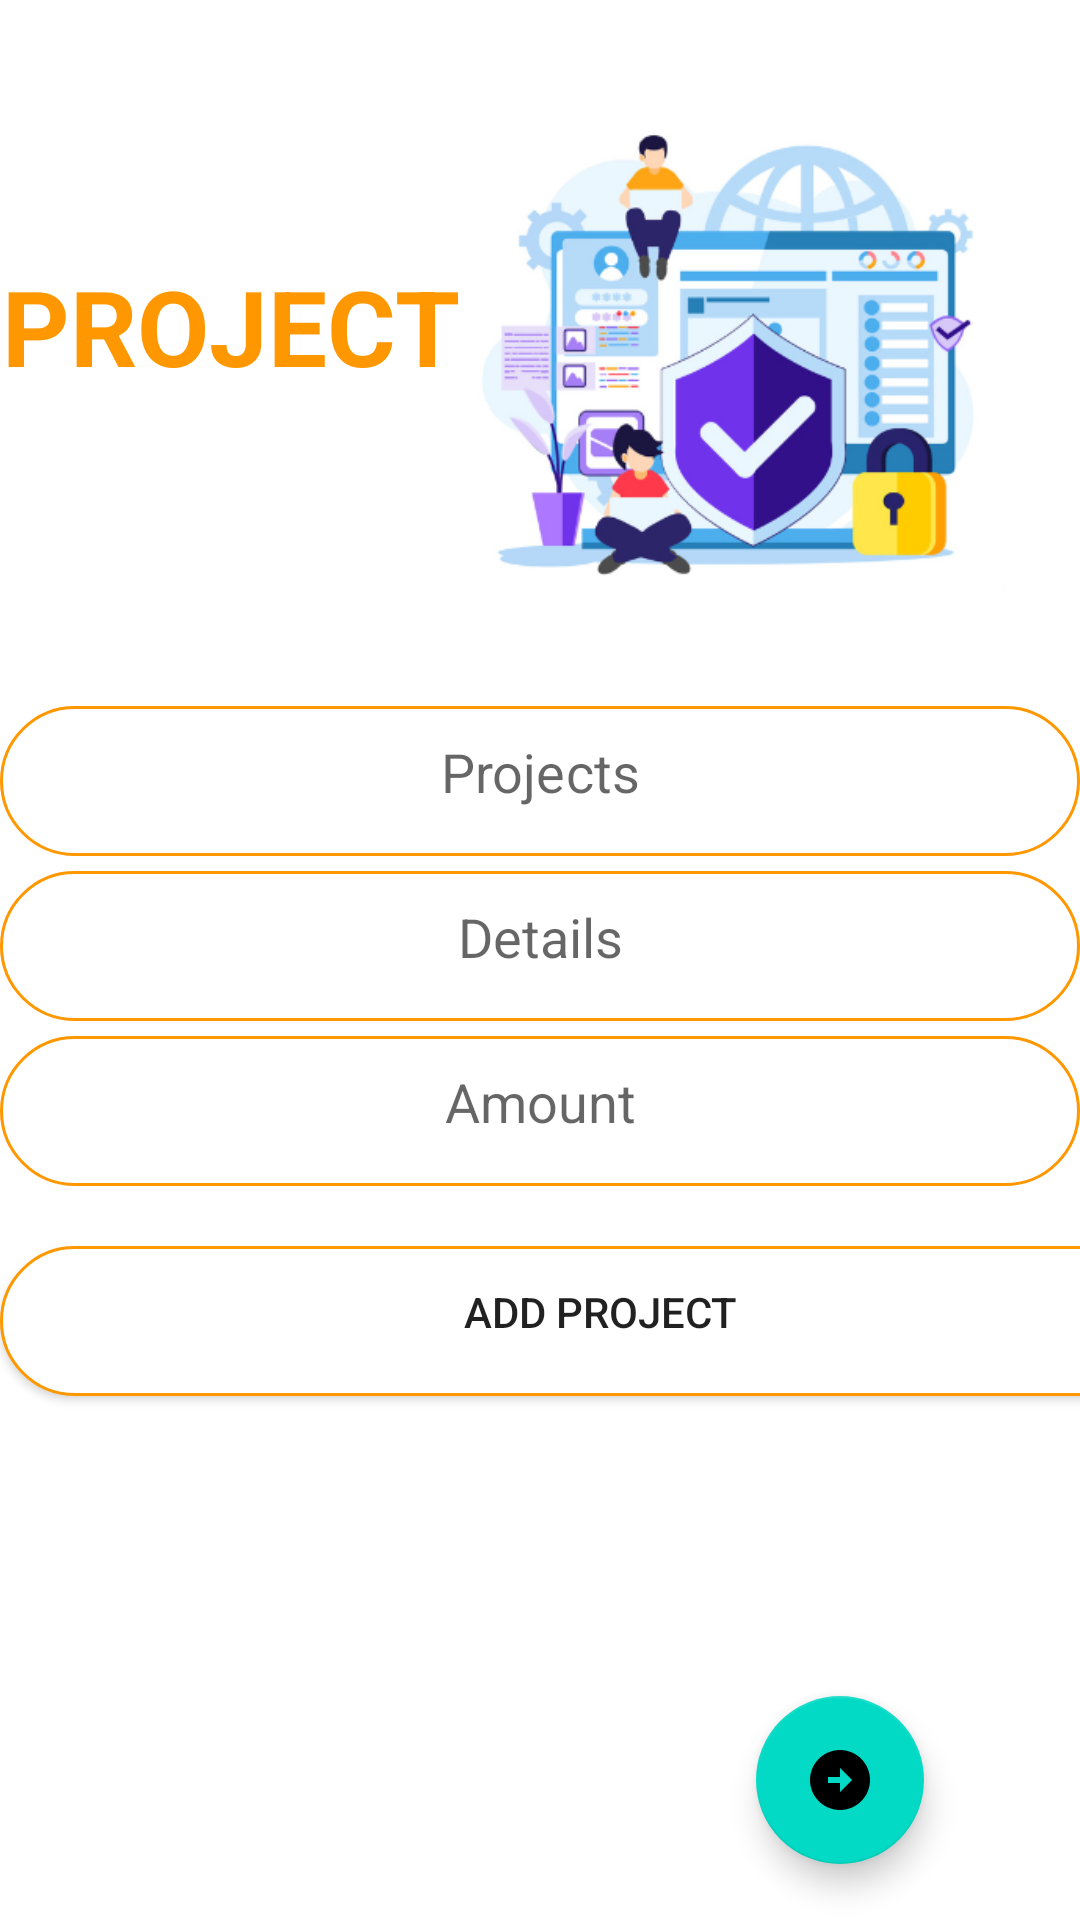

Named icons in this screenshot (1080x1920) and their bounding boxes, detection(x1, y1, x2, y2):
snd req: detection(756, 1696, 924, 1864)
